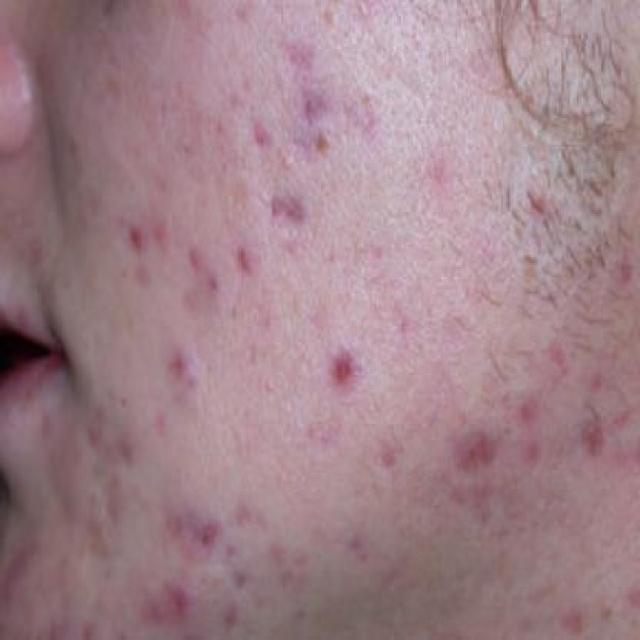blackheads: (155, 340, 211, 400), (322, 334, 369, 400), (191, 267, 231, 316), (289, 84, 329, 120)
dark spot: (274, 178, 329, 235), (108, 206, 150, 277), (500, 377, 548, 430), (237, 122, 277, 165), (334, 522, 371, 564), (237, 237, 265, 286)
